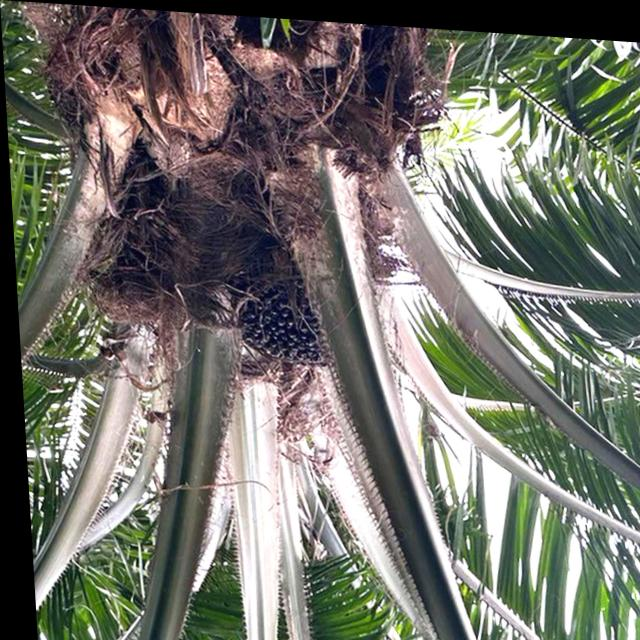unripe: (225, 245, 345, 375)
